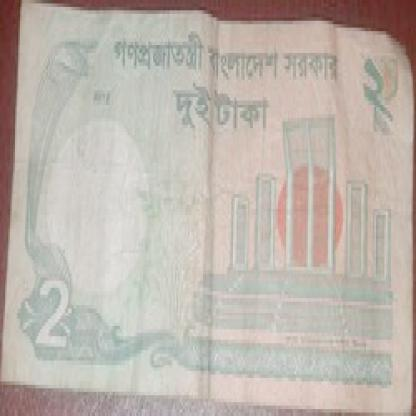two taka: (354, 59, 408, 156), (35, 270, 75, 354)
